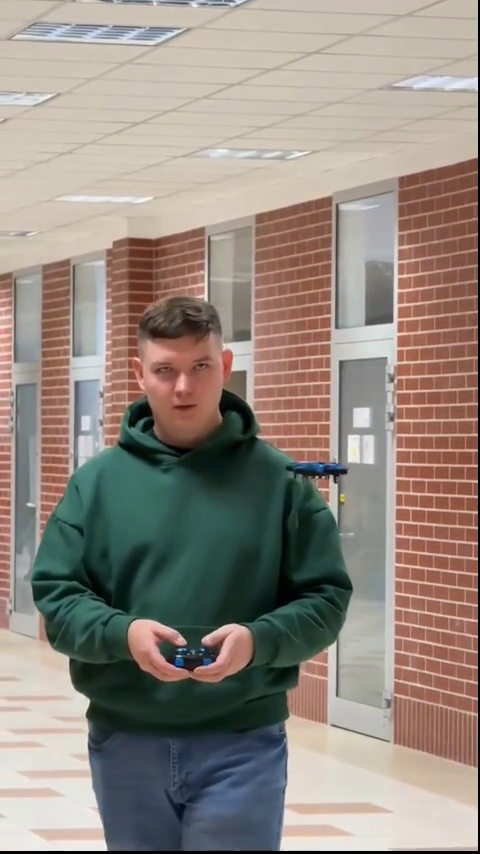drone: (288, 460, 345, 487)
no vest: (42, 296, 353, 833)
